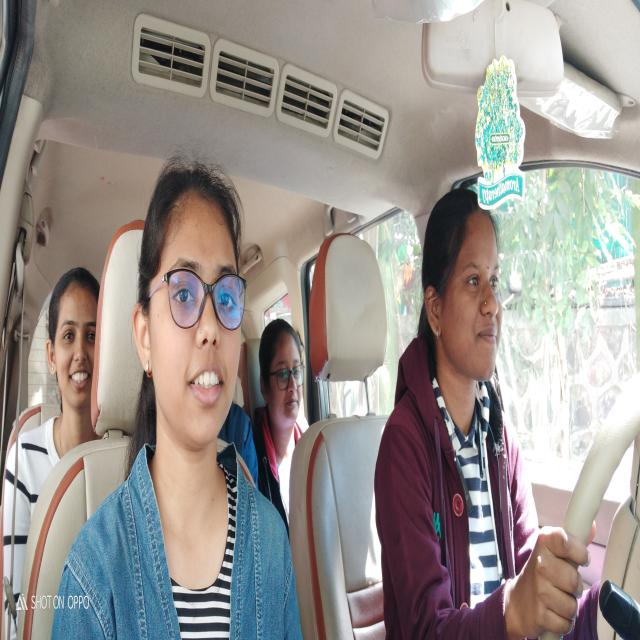person: (144, 177, 240, 441), (425, 196, 504, 385), (48, 282, 93, 412), (261, 331, 304, 422)
